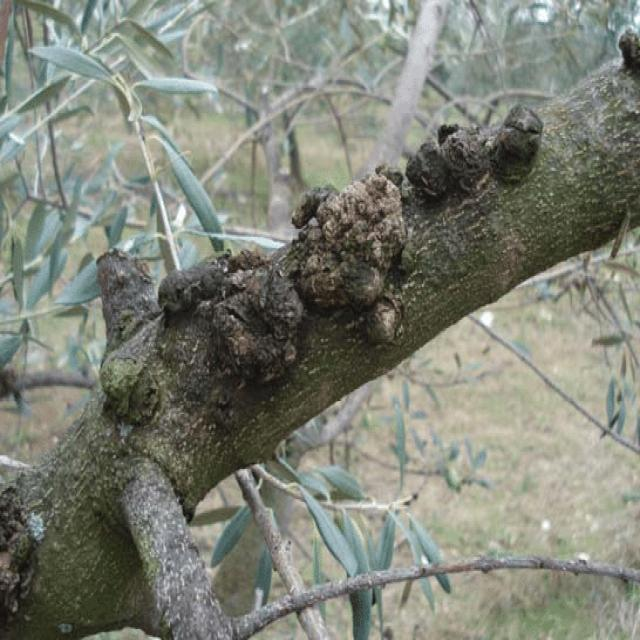Tuberculosis: (284, 171, 406, 342), (158, 252, 304, 388), (407, 124, 496, 202), (0, 477, 45, 621), (488, 104, 534, 184)
